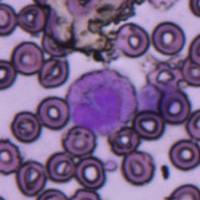E: (66, 68, 137, 136)
